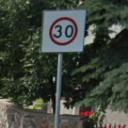speed_limit_30: (46, 16, 80, 48)
